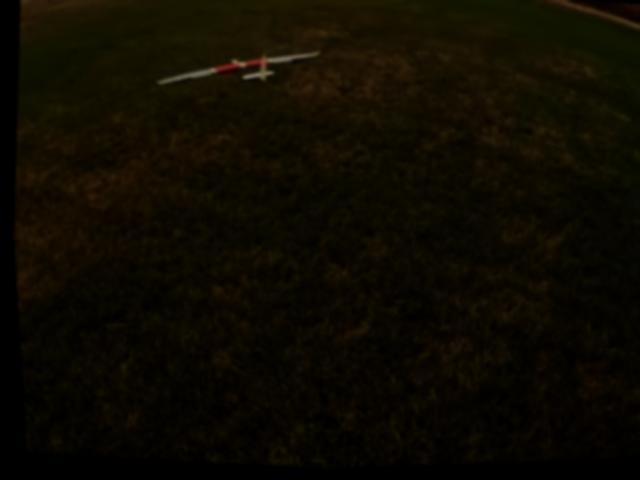uav: (150, 25, 331, 116)
